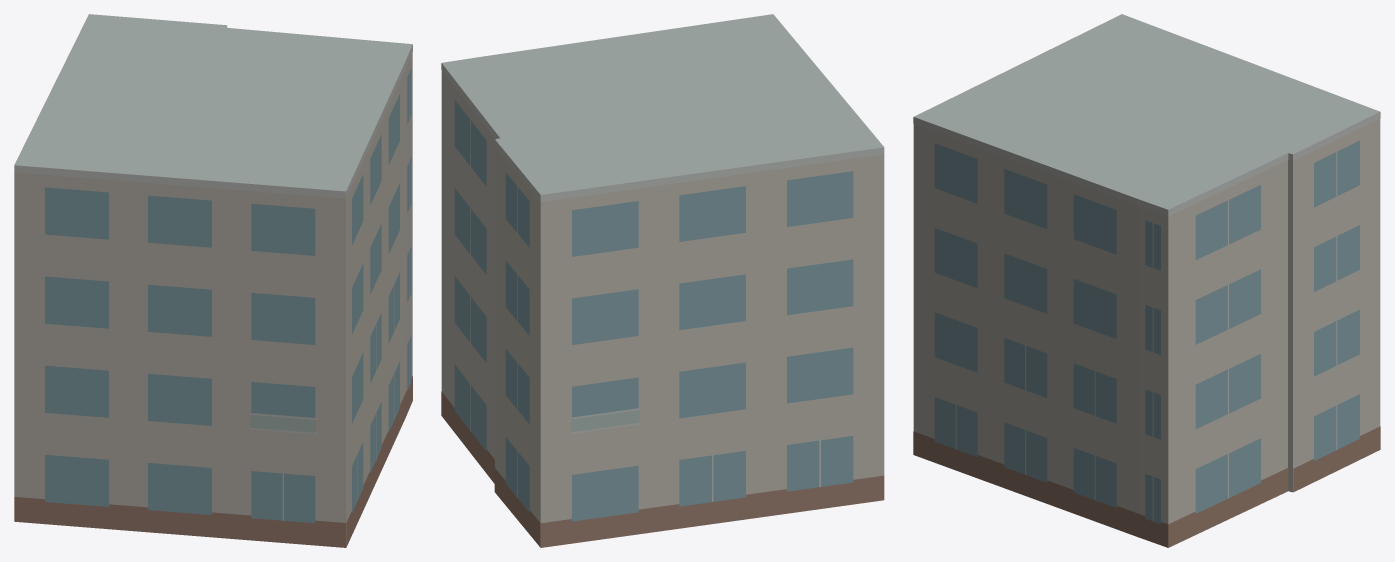
The model's file is survey-upis-32920222.glb.
The picture shows the model from 3 angles, left to right: view 1: azimuth 30°, elevation 25°; view 2: azimuth 150°, elevation 25°; view 3: azimuth 270°, elevation 25°; orthographic projection. The views are drawn at different scales.
Parts seen in each view (by area): view 1: survey-upis-32920222.tmp; view 2: survey-upis-32920222.tmp; view 3: survey-upis-32920222.tmp.
Boxes of the visible parts, x1=… form: survey-upis-32920222.tmp: x1=14, y1=14, x2=412, y2=547; survey-upis-32920222.tmp: x1=441, y1=14, x2=884, y2=547; survey-upis-32920222.tmp: x1=913, y1=14, x2=1380, y2=547.
Size of the model in its own units: 15.16 by 12.2 by 15.27.
